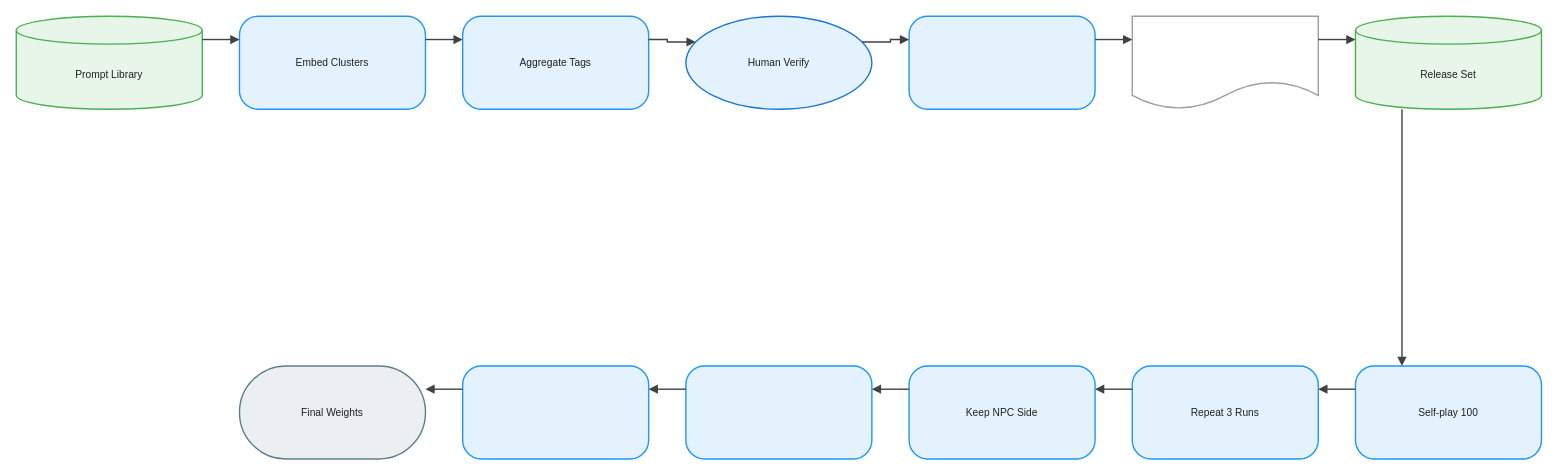
Image size: 1559x476. Some labels were removed from this diagram. Here are the shapes that lost their labels. From the top down, the box of each, then its label:
(908, 15, 1095, 110): Sample Roles
(1131, 15, 1319, 110): Build Seeds
(462, 365, 649, 459): Score 6 Dims
(685, 365, 872, 459): Chunk 20 Turns
